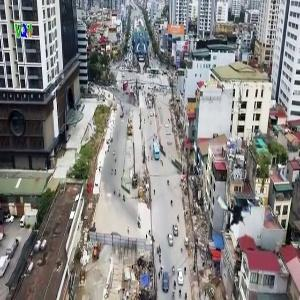drone: (208, 184, 259, 235)
